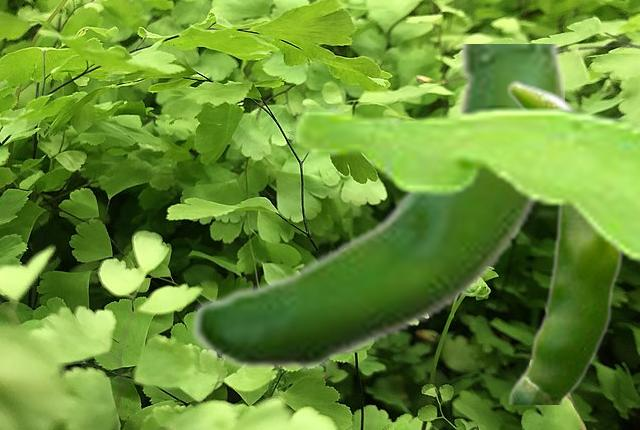green_chili: (189, 44, 563, 373), (505, 79, 623, 403)
